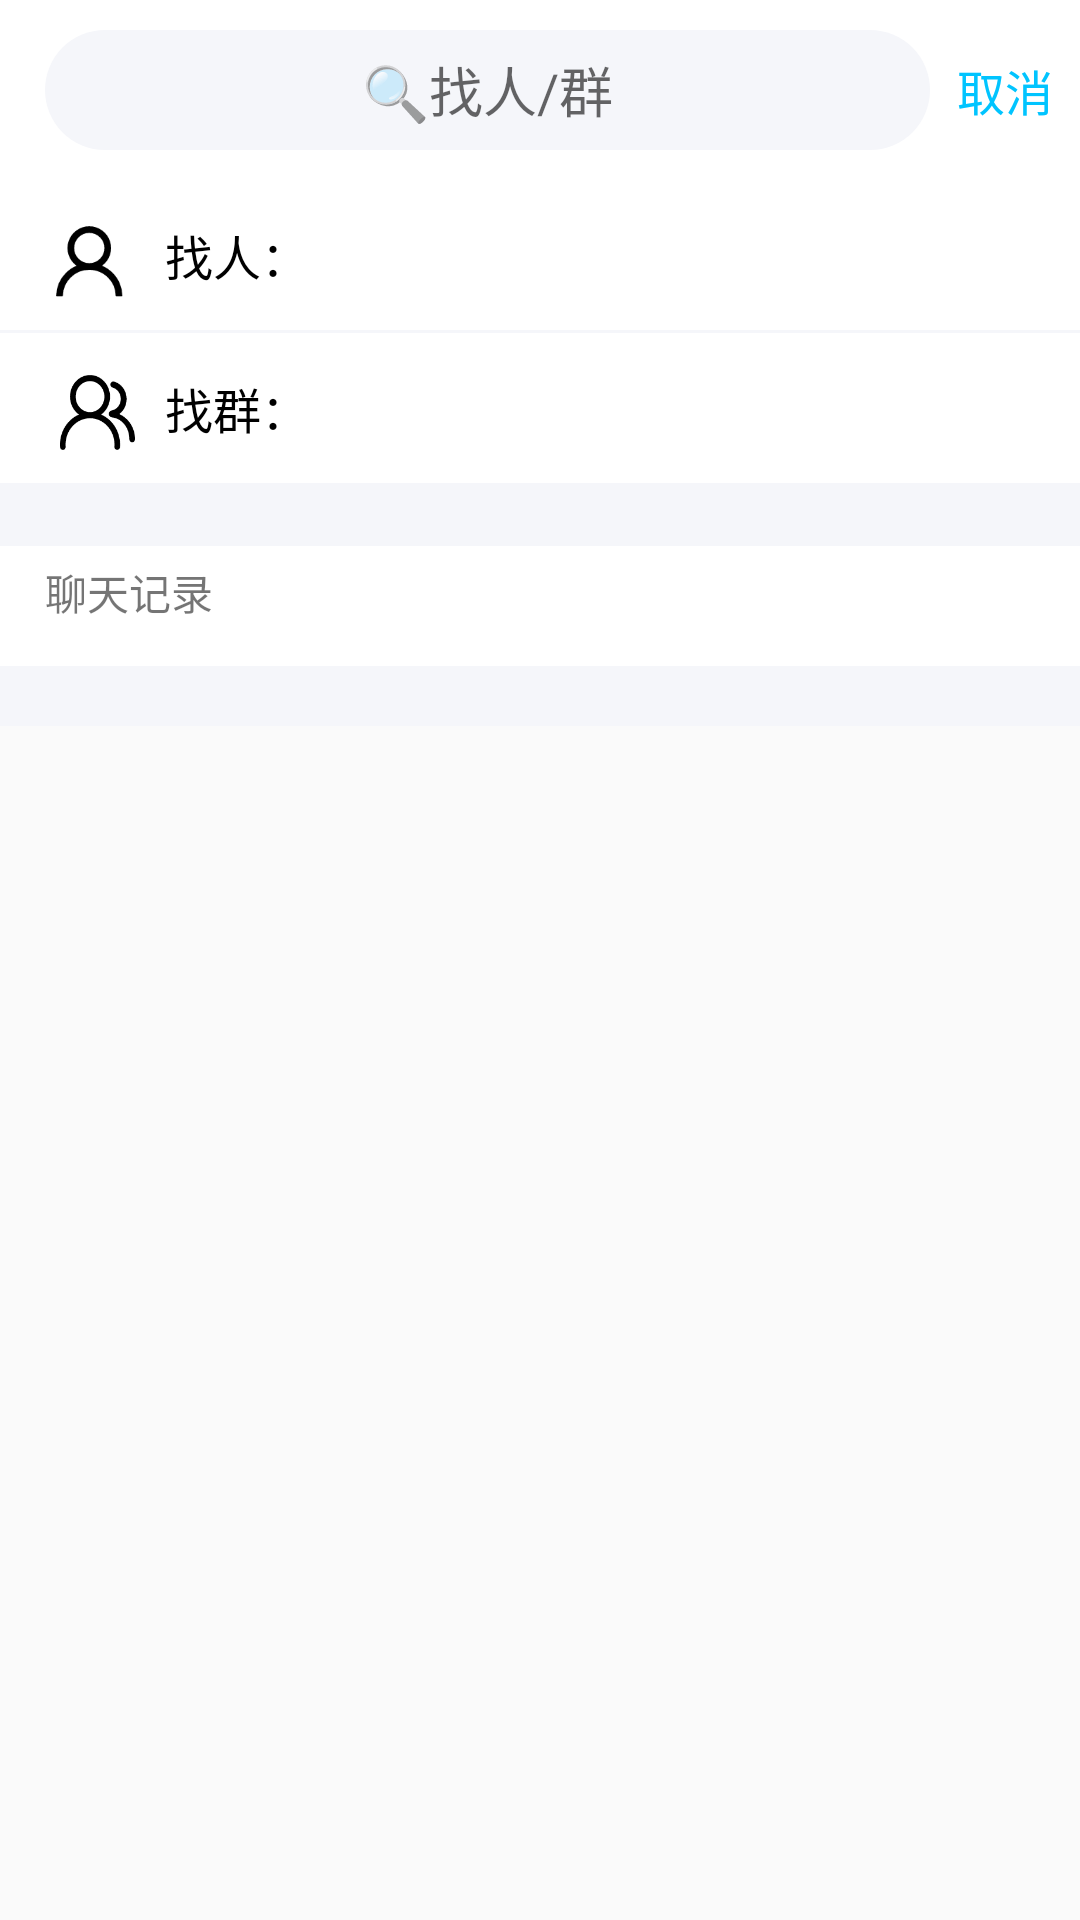

Where icons sit on this 1080*1920 app screen, as (x1, y1, x2, y2):
group people: (60, 375, 135, 450)
single people: (56, 226, 123, 297)
